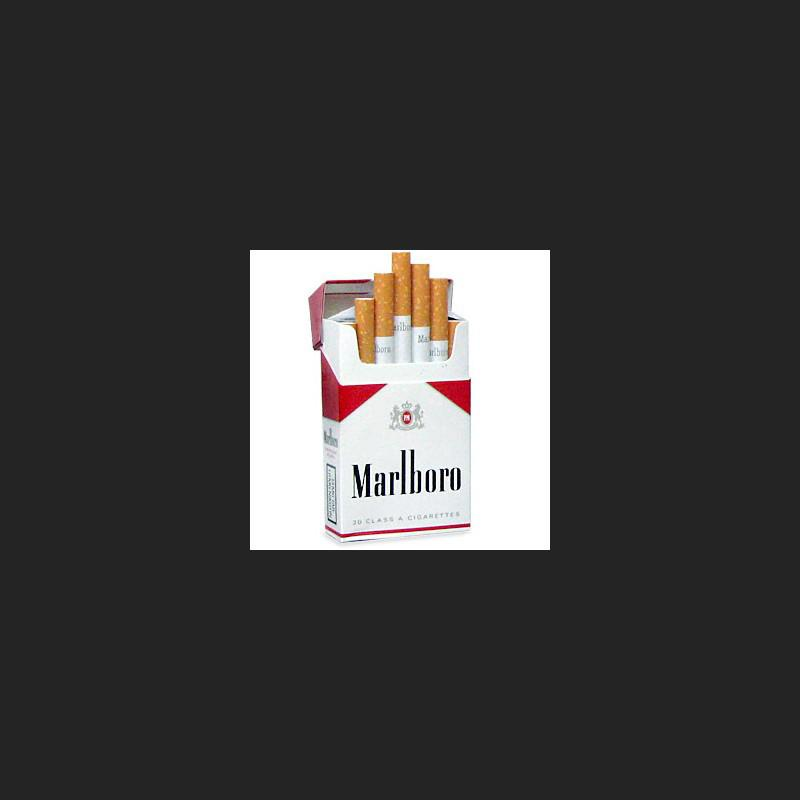marlboro_red: (337, 358, 465, 534)
